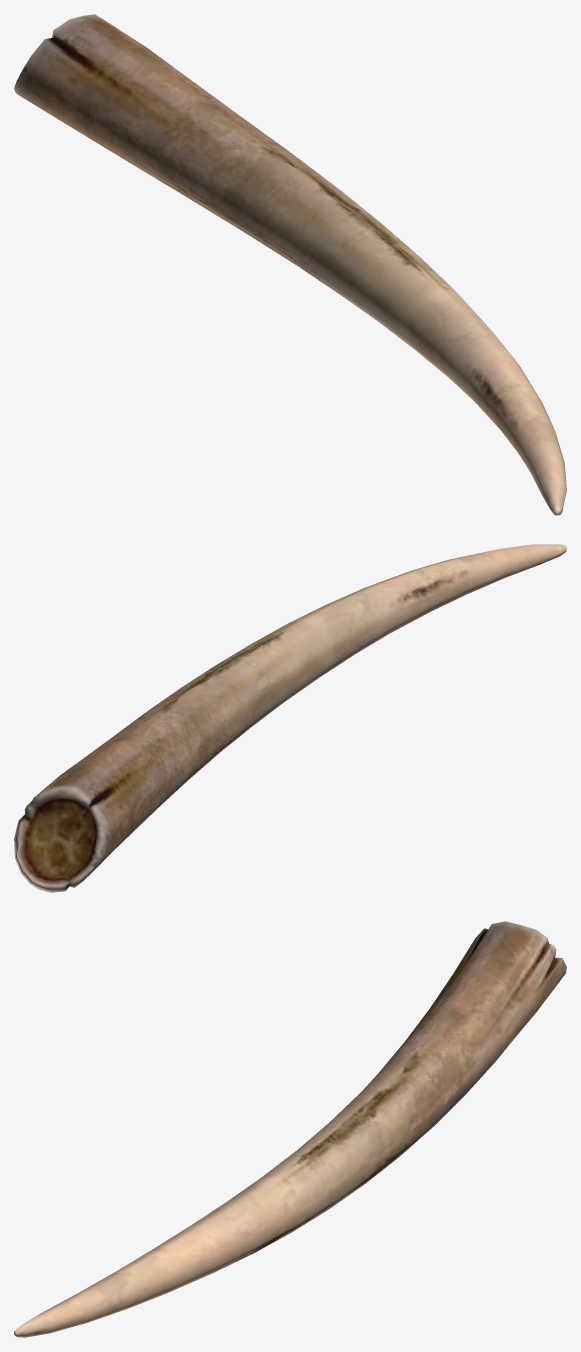
3 views of the same model, one above another, from view 1: azimuth 30°, elevation 25°; view 2: azimuth 150°, elevation 25°; view 3: azimuth 330°, elevation 25° (orthographic). The views are drawn at different scales.
Parts seen in each view (by area): view 1: SM_Garou_Materials_Tusks_03_LOD0; view 2: SM_Garou_Materials_Tusks_03_LOD0; view 3: SM_Garou_Materials_Tusks_03_LOD0.
Part boxes in pixels (bbox=[...]): SM_Garou_Materials_Tusks_03_LOD0: bbox=[14, 14, 566, 515]; SM_Garou_Materials_Tusks_03_LOD0: bbox=[14, 544, 566, 892]; SM_Garou_Materials_Tusks_03_LOD0: bbox=[14, 921, 566, 1337].
Bounding box in the file's own units: 0.4996 × 0.4313 × 3.73.
1 material, 1 textured.
